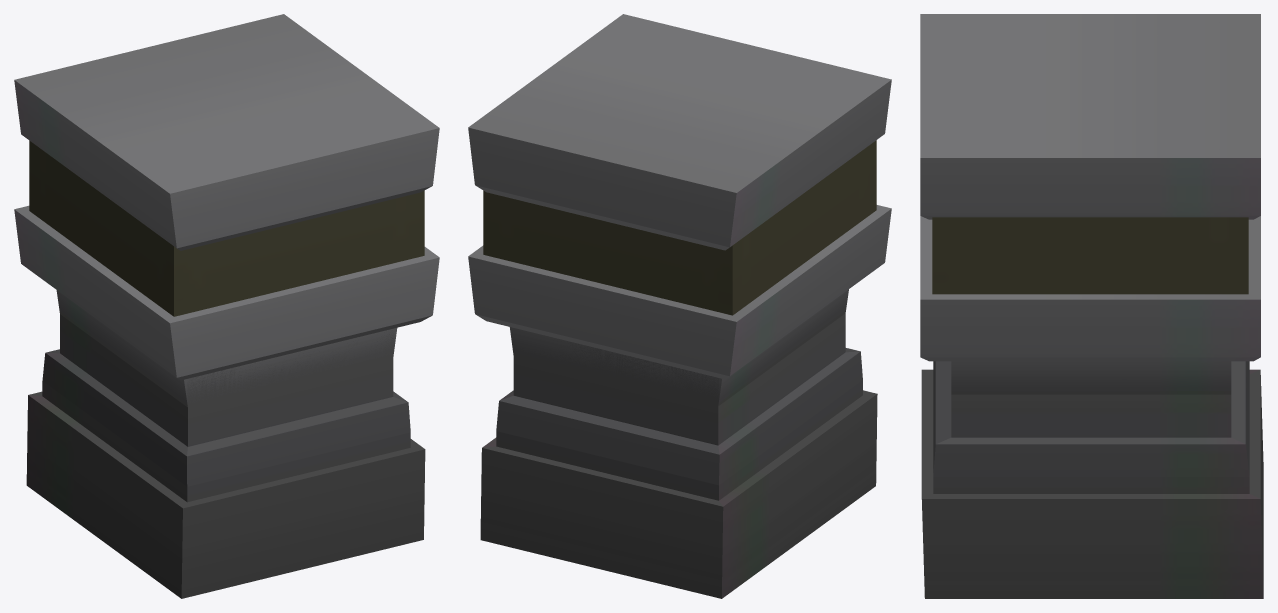
The model's file is Stone2.fbx.
3 renders of one model, left to right at view 1: azimuth 30°, elevation 25°; view 2: azimuth 150°, elevation 25°; view 3: azimuth 270°, elevation 25°, orthographic. The views are drawn at different scales.
Visible parts, largest first — view 1: Cube, Cube.001; view 2: Cube, Cube.001; view 3: Cube, Cube.001.
Part boxes in pixels (left/top/right/bottom): Cube: left=14, top=14, right=439, bottom=598; Cube.001: left=14, top=140, right=439, bottom=407; Cube: left=468, top=14, right=891, bottom=598; Cube.001: left=468, top=140, right=891, bottom=406; Cube: left=920, top=14, right=1263, bottom=598; Cube.001: left=920, top=216, right=1260, bottom=394.
Size of the model in its own units: 401 by 583 by 405.
